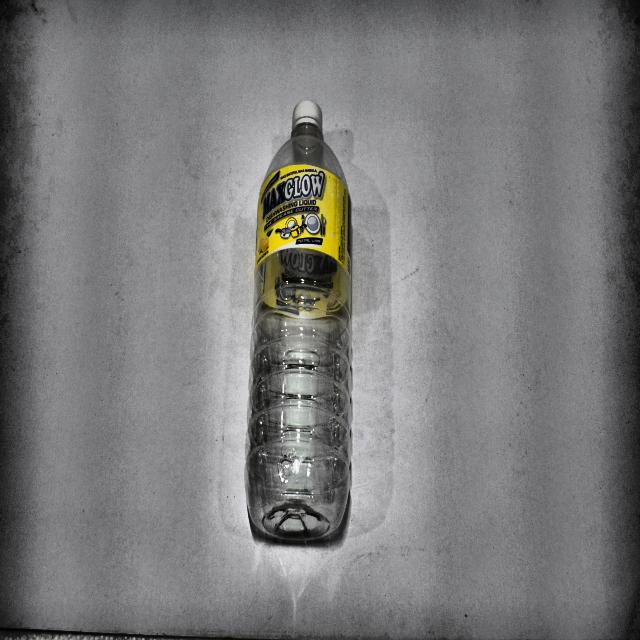Bottles: (244, 90, 359, 548)
